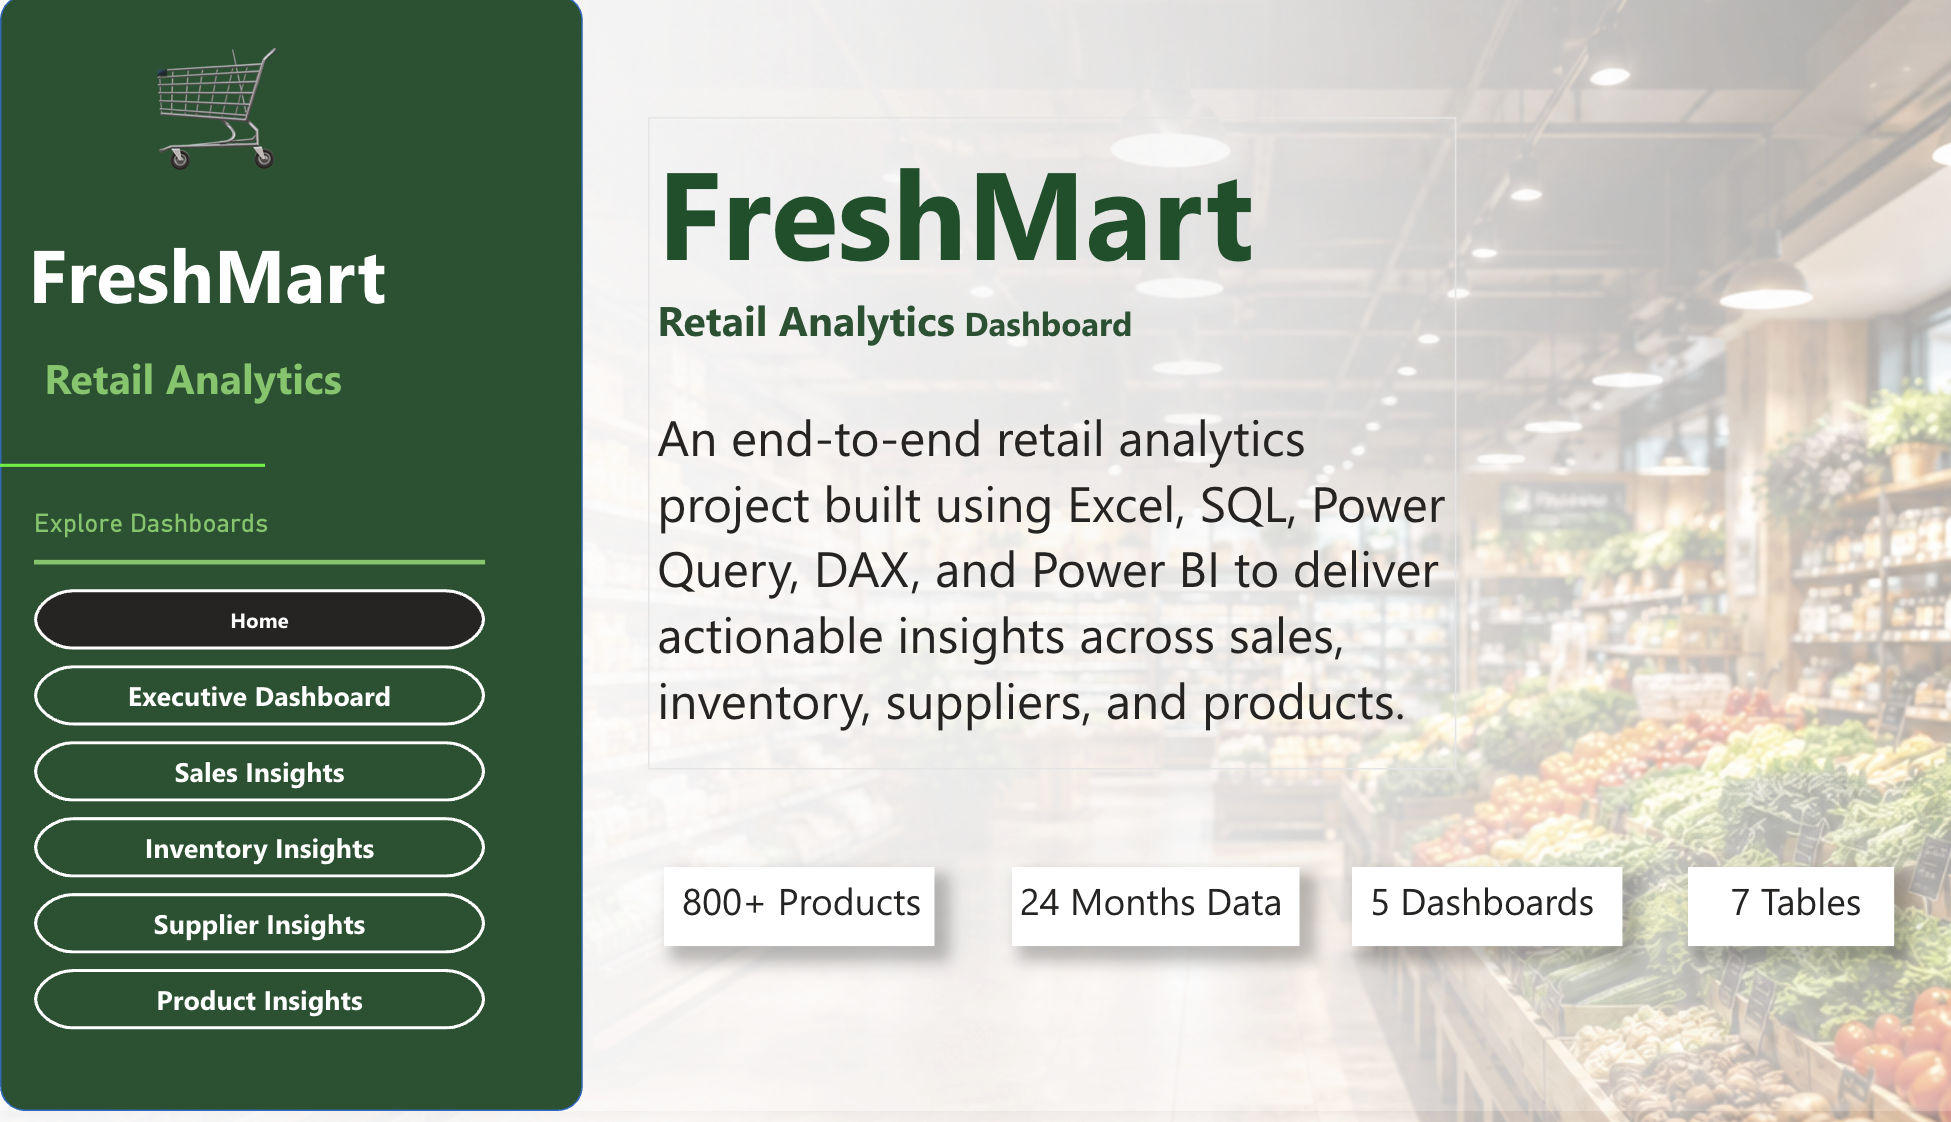

Layout of this report page (visuals, bound fields, positions):
{"tool":"powerbi","page":{"name":"Home","canvas":[1280,720],"ordinal":0},"visuals":[{"type":"shape","box":[0,0,376,720],"z":0},{"type":"textbox","box":[0,0,364.8,720],"z":1000},{"type":"shape","box":[0,289.6,171.2,28.8],"z":2000},{"type":"pageNavigator","title":"Explore Dashboards","box":[22.4,332.8,291.2,339.2],"z":3000},{"type":"textbox","box":[417.6,78.4,521.6,420.8],"z":4000},{"type":"textbox","box":[652.8,563.2,185.6,51.2],"z":5000},{"type":"textbox","box":[428.8,563.2,174.4,51.2],"z":6000},{"type":"textbox","box":[872,563.2,174.4,51.2],"z":7000},{"type":"textbox","box":[1089.6,563.2,132.8,51.2],"z":8000}]}

Visuals, with their boxes in screenshot pixels (x1, y1, x2, y2), scaled from the page's 1280x720 canvas onto the 1951x1122 screenshot:
shape: (0,0,573,1121)
textbox: (0,0,556,1121)
shape: (0,451,261,496)
"Explore Dashboards" pageNavigator: (34,519,478,1047)
textbox: (637,122,1432,778)
textbox: (995,878,1278,957)
textbox: (654,878,919,957)
textbox: (1329,878,1595,957)
textbox: (1661,878,1863,957)
